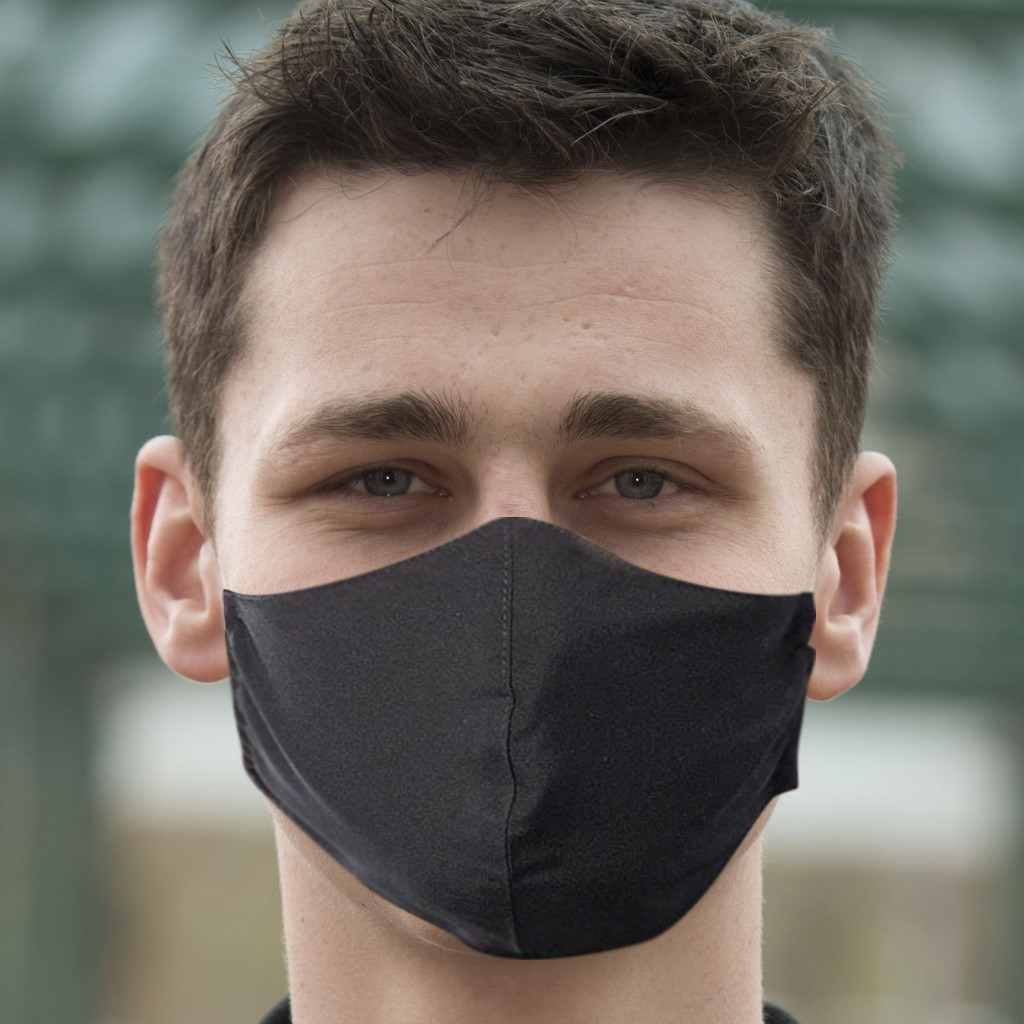con_mascara: (158, 57, 907, 978)
